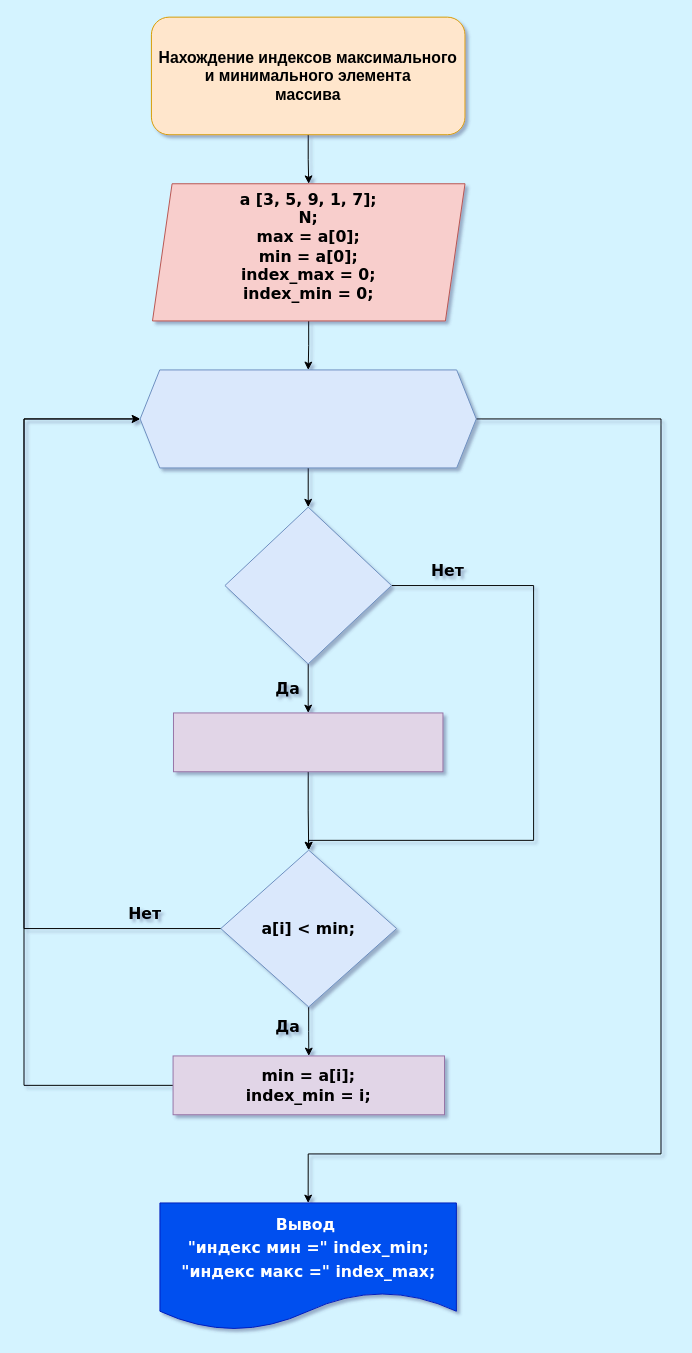
Some shapes in this 692 by 1353 pixel diagram are drawn without their labels. Each missing label, with the centre of its shape:
"a[i] > max;" goes at point 308,585.
"i = 0; i < N; i++" goes at point 307,418.
"max = a[i]; index_max = i;" goes at point 307,742.
